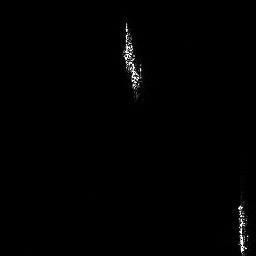ship: (122, 19, 145, 101), (235, 199, 251, 255)
